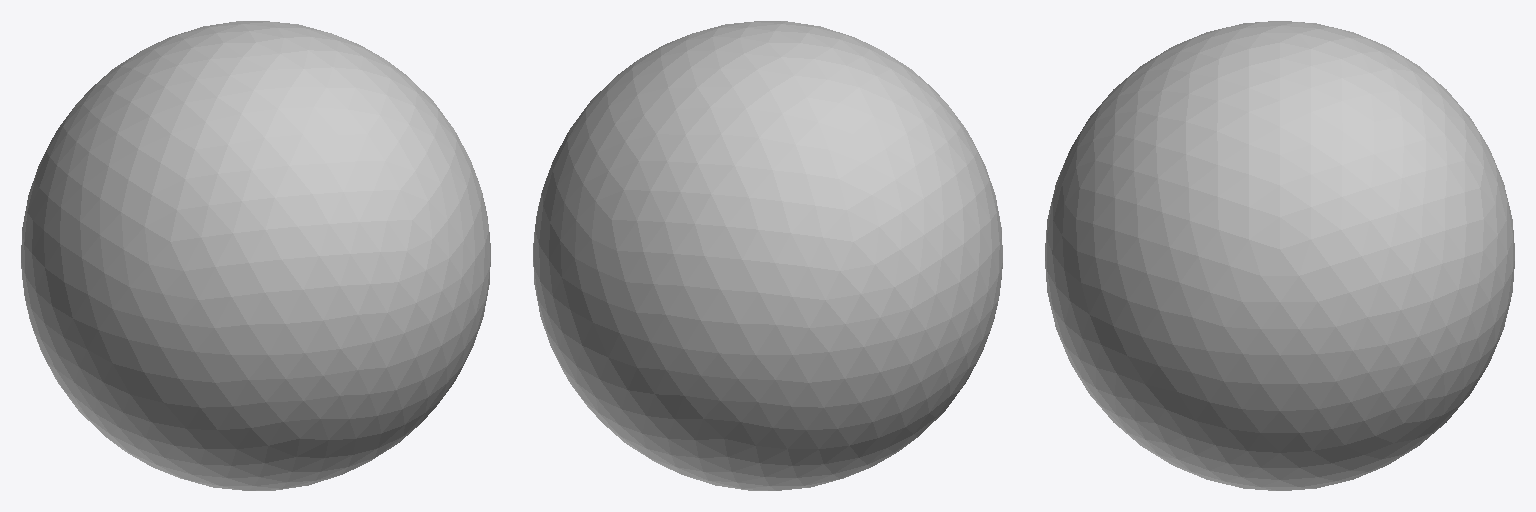
The model's file is trisphere (2).obj.
The picture shows the model from 3 angles: view 1: azimuth 30°, elevation 25°; view 2: azimuth 150°, elevation 25°; view 3: azimuth 270°, elevation 25°; orthographic projection.
Parts seen in each view (by area): view 1: Sphere_Sphere.002_Material.001; view 2: Sphere_Sphere.002_Material.001; view 3: Sphere_Sphere.002_Material.001.
Part boxes in pixels (left/top/right/bottom): Sphere_Sphere.002_Material.001: left=21, top=21, right=490, bottom=490; Sphere_Sphere.002_Material.001: left=533, top=21, right=1002, bottom=490; Sphere_Sphere.002_Material.001: left=1045, top=21, right=1514, bottom=490.
Bounding box in the file's own units: 2 × 2 × 2.